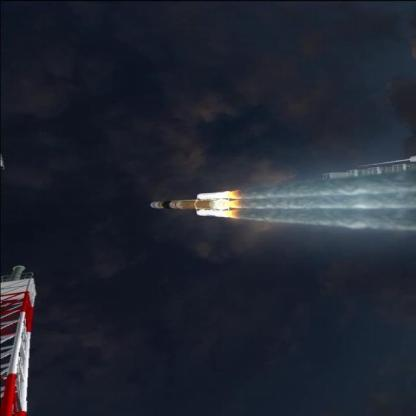MIL_TBM: (150, 199, 238, 211), (194, 190, 240, 200), (196, 209, 238, 218)
